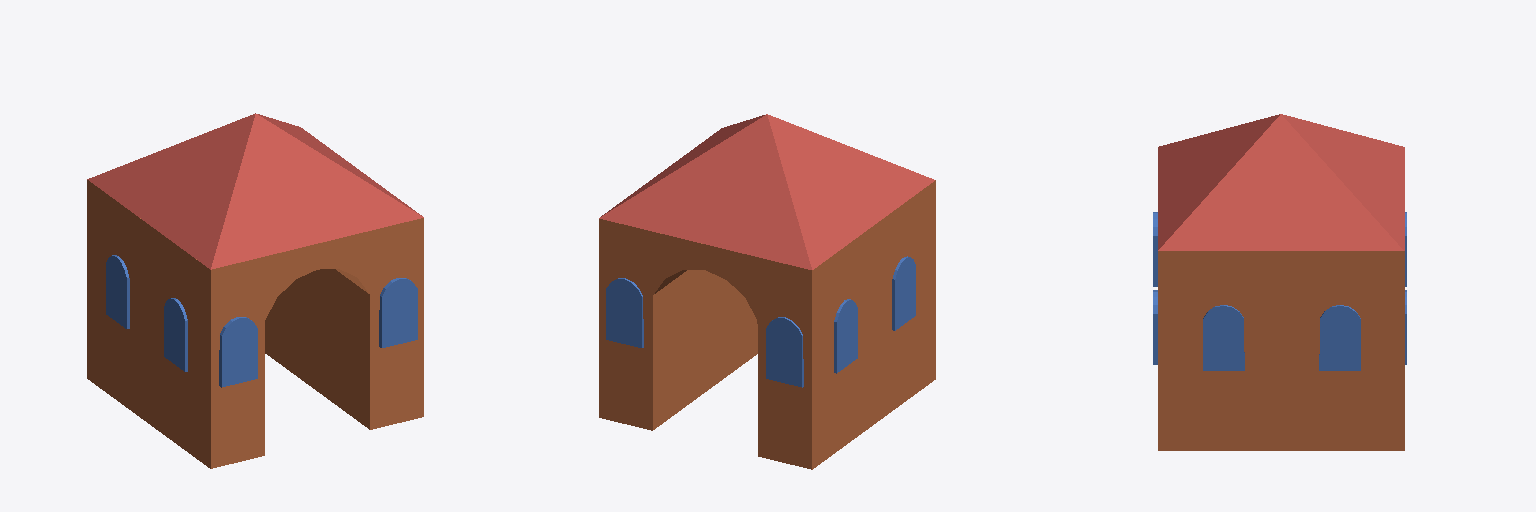
Rendered from exit.obj.
3 renders of one model, left to right at view 1: azimuth 30°, elevation 25°; view 2: azimuth 150°, elevation 25°; view 3: azimuth 270°, elevation 25°, orthographic.
Visible parts, largest first — view 1: buildingMain_Cube.001, roof_Cube.002, window.001_Cylinder.002, window_Cylinder.001, window.005_Cylinder.006, window.004_Cylinder.005; view 2: buildingMain_Cube.001, roof_Cube.002, window.003_Cylinder.004, window.002_Cylinder.003, window.004_Cylinder.005, window.005_Cylinder.006; view 3: buildingMain_Cube.001, roof_Cube.002, window.007_Cylinder.008, window.006_Cylinder.007.
Part boxes in pixels (x1,y1,x2,y2): buildingMain_Cube.001: (87, 180, 423, 468); roof_Cube.002: (87, 113, 423, 269); window.001_Cylinder.002: (379, 278, 417, 347); window_Cylinder.001: (219, 317, 257, 387); window.005_Cylinder.006: (164, 298, 187, 371); window.004_Cylinder.005: (106, 255, 129, 328); buildingMain_Cube.001: (599, 180, 935, 469); roof_Cube.002: (599, 114, 934, 269); window.003_Cylinder.004: (606, 278, 643, 347); window.002_Cylinder.003: (766, 317, 803, 387); window.004_Cylinder.005: (834, 299, 857, 373); window.005_Cylinder.006: (892, 256, 915, 330); buildingMain_Cube.001: (1158, 251, 1404, 450); roof_Cube.002: (1158, 114, 1404, 250); window.007_Cylinder.008: (1203, 305, 1244, 370); window.006_Cylinder.007: (1319, 305, 1360, 370).
Size of the model in its own units: 3.58 by 4.45 by 3.6.